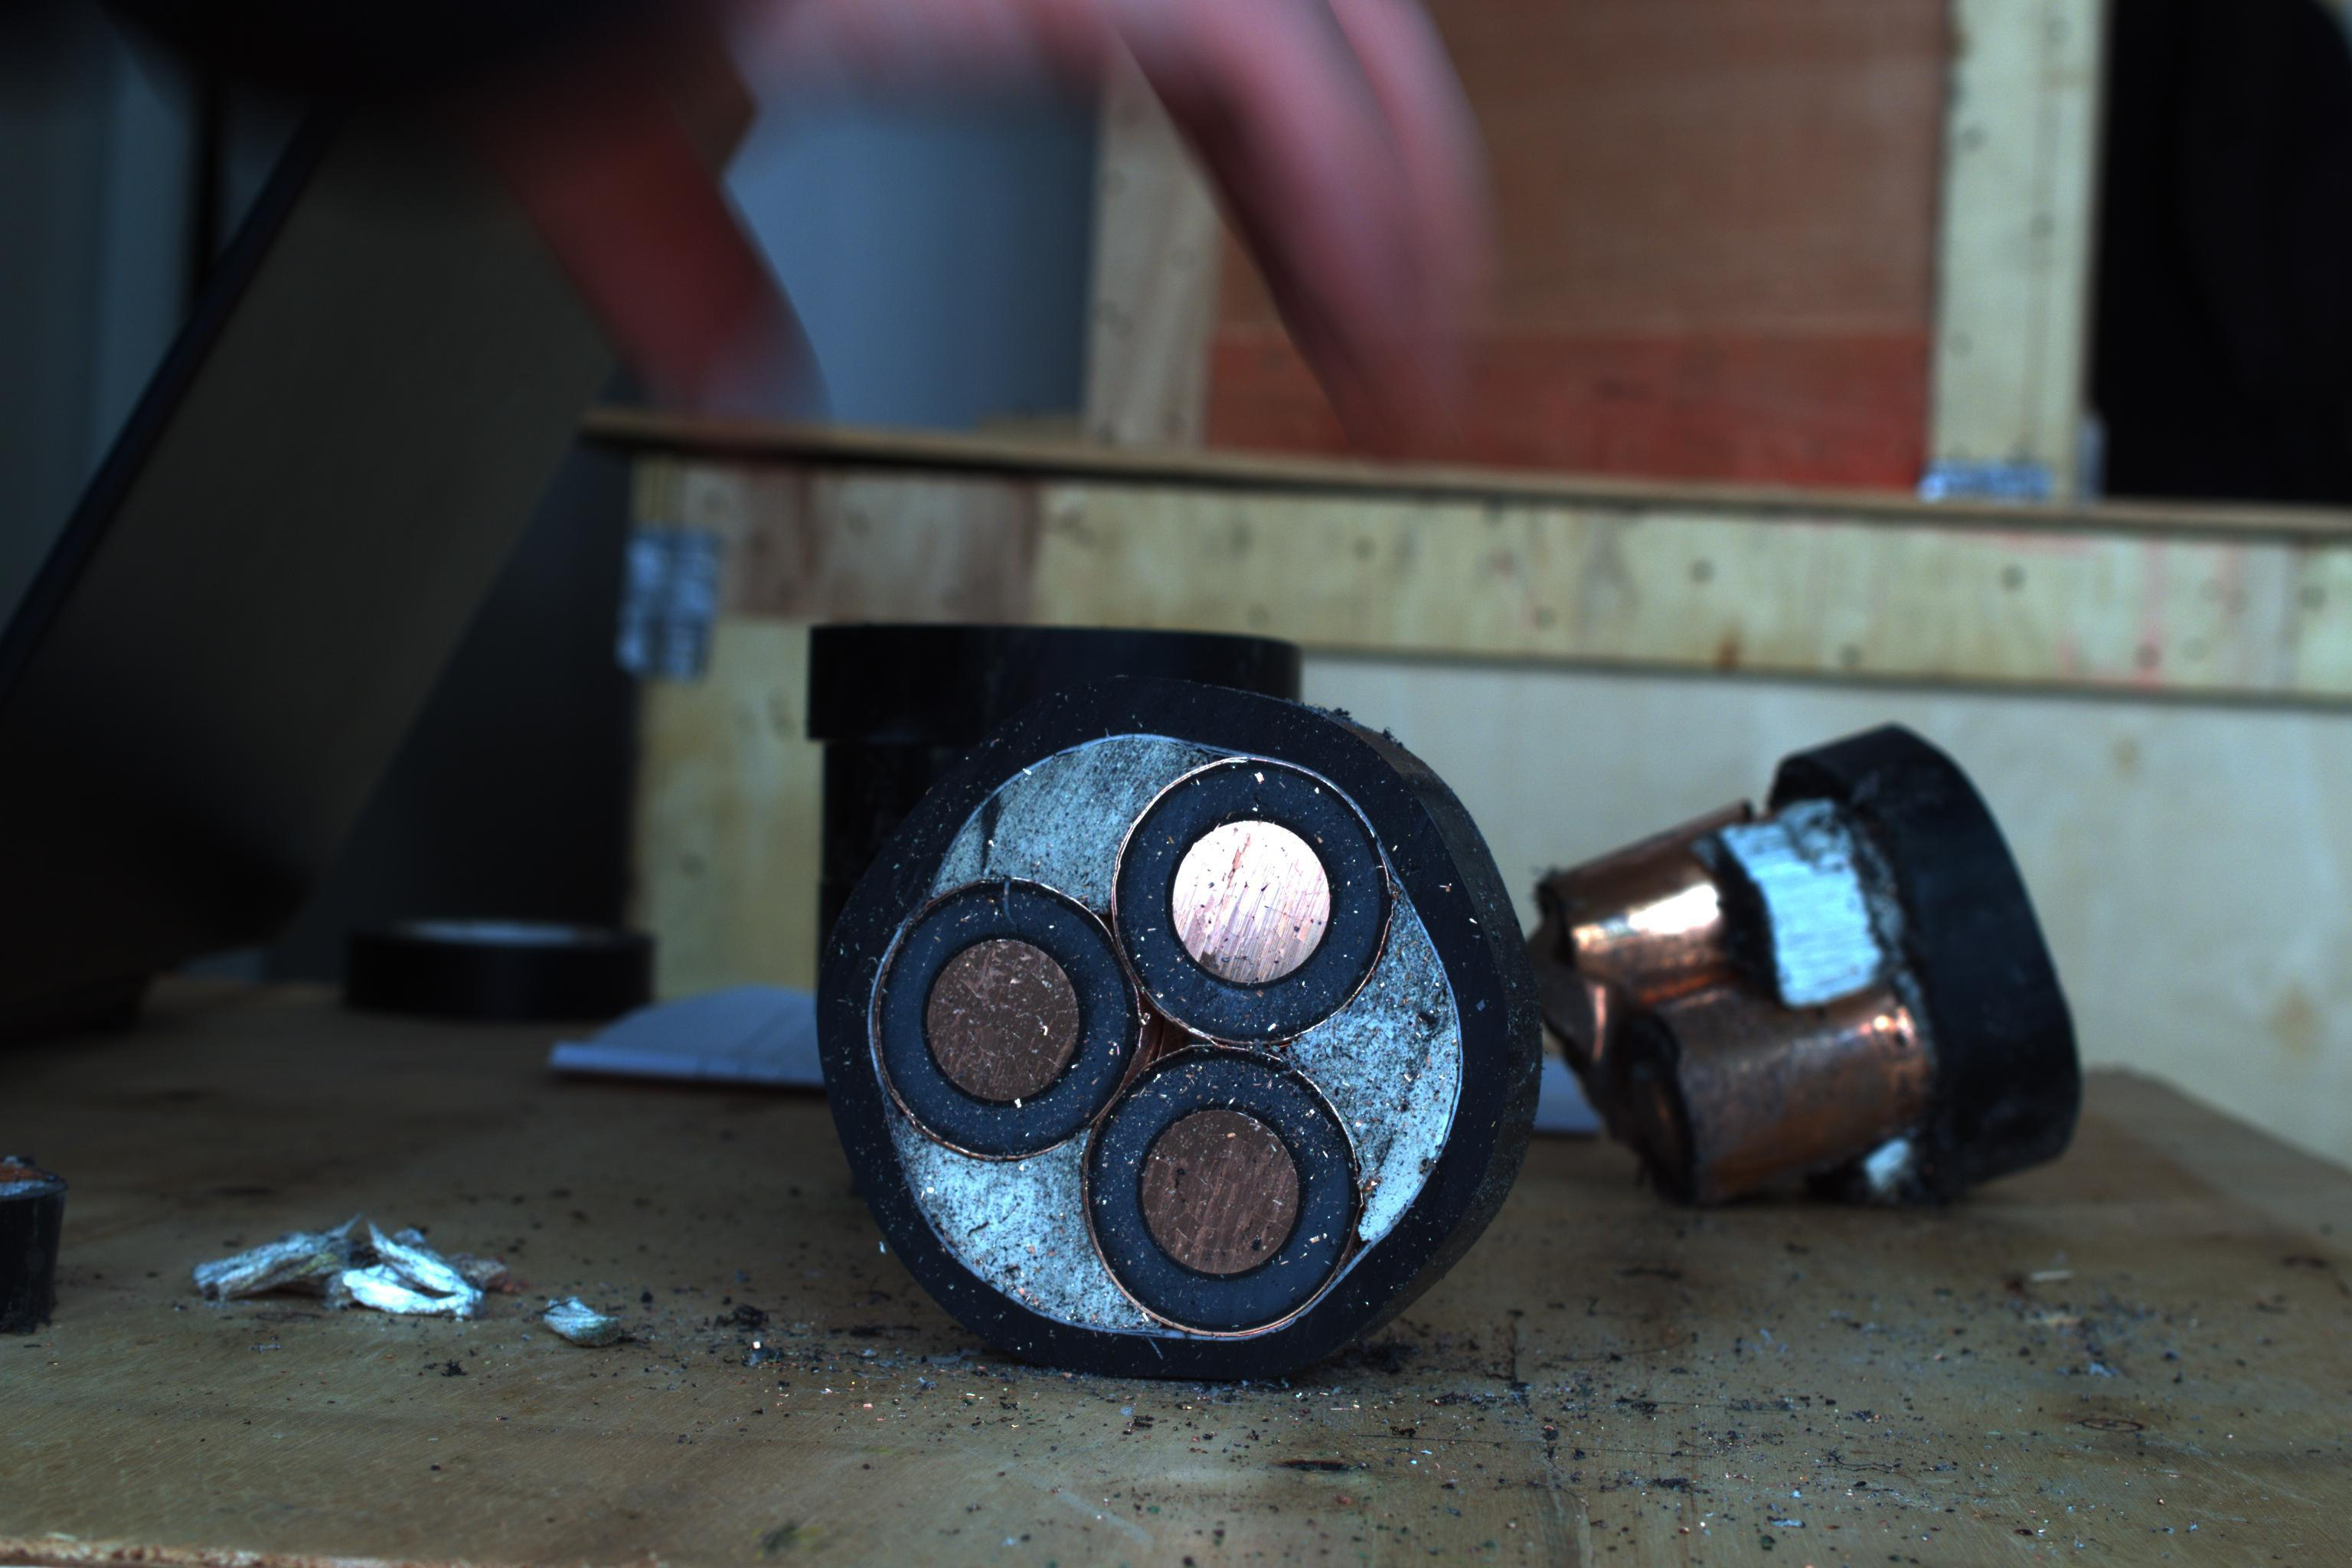ZA_YJV_8.7_10kV_3x240: (852, 688, 1484, 1367)
